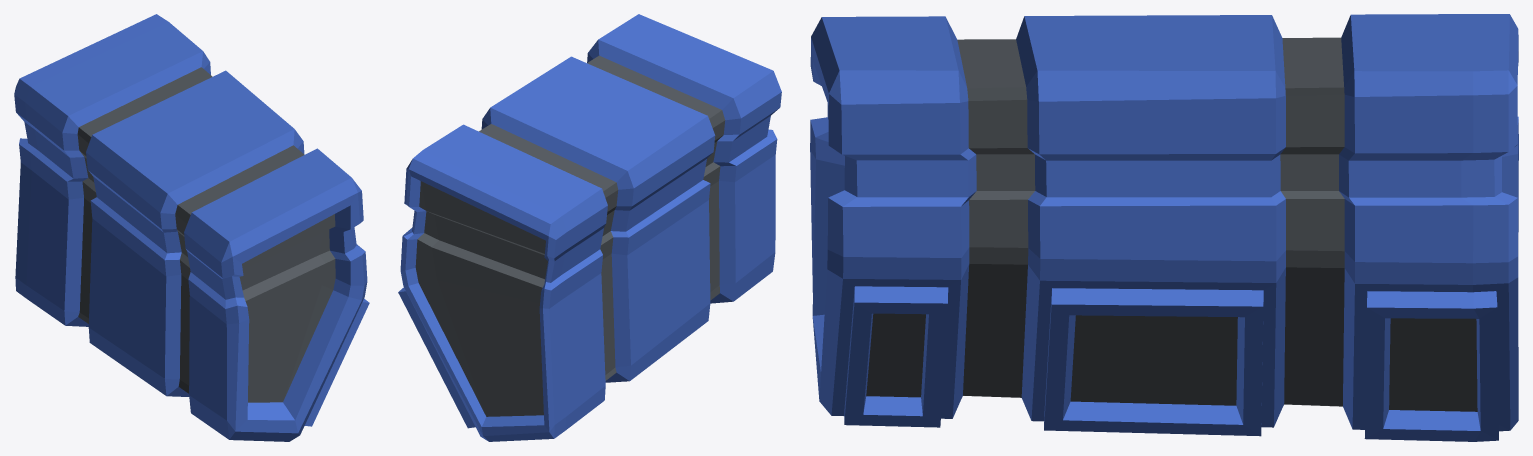
The model's file is Fighter_10_Engine_Left_Blue.fbx.
The picture shows the model from 3 angles, left to right: view 1: azimuth 30°, elevation 25°; view 2: azimuth 150°, elevation 25°; view 3: azimuth 270°, elevation 25°; orthographic projection. The views are drawn at different scales.
Visible parts, largest first — view 1: Fighter_10_Engine_Left_Blue; view 2: Fighter_10_Engine_Left_Blue; view 3: Fighter_10_Engine_Left_Blue.
Boxes of the visible parts, x1,y1,x2,y2 form: Fighter_10_Engine_Left_Blue: (14, 14, 369, 441); Fighter_10_Engine_Left_Blue: (398, 14, 781, 441); Fighter_10_Engine_Left_Blue: (810, 14, 1518, 441).
Size of the model in its own units: 403 by 595 by 912.
2 materials, 2 textured.
